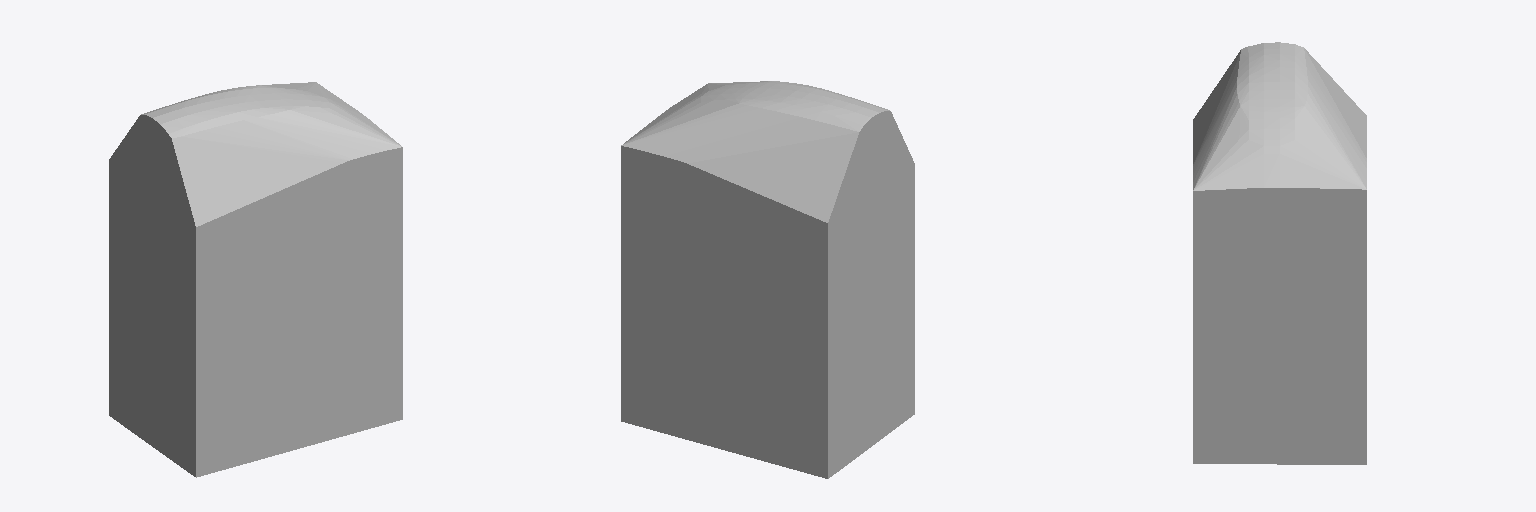
Rendered from Multimeter_collision_4.obj.
3 views of the same model, side by side, from view 1: azimuth 30°, elevation 25°; view 2: azimuth 150°, elevation 25°; view 3: azimuth 270°, elevation 25° (orthographic).
Bounding box in the file's own units: 21.73 × 33.33 × 15.81.